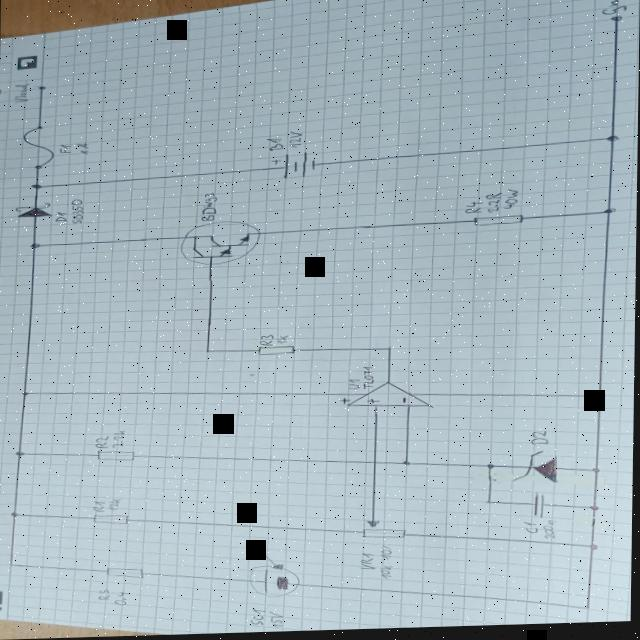capacitor: (529, 496, 547, 523)
crossover: (369, 463, 379, 468)
diode: (508, 453, 559, 489), (12, 203, 55, 220)
junction: (603, 139, 619, 147), (591, 397, 606, 405), (601, 212, 615, 219), (28, 243, 41, 250), (588, 509, 600, 516), (13, 451, 25, 458), (587, 548, 599, 555), (30, 184, 42, 190), (589, 472, 601, 478), (581, 610, 593, 616), (485, 467, 496, 473), (484, 503, 494, 509), (9, 513, 19, 518), (202, 351, 212, 356), (19, 392, 29, 397), (401, 464, 411, 469), (383, 349, 393, 354), (7, 563, 15, 568)
resistor: (359, 521, 407, 543), (472, 217, 522, 230), (104, 567, 144, 582), (95, 450, 135, 464), (91, 514, 129, 528), (256, 347, 295, 358)
source: (269, 152, 316, 183)
terminal: (608, 19, 623, 27), (34, 86, 46, 92)
text: (598, 0, 627, 20), (198, 194, 217, 224), (67, 199, 85, 226), (482, 194, 503, 217), (499, 192, 518, 214), (283, 132, 303, 152), (11, 83, 29, 104), (249, 611, 269, 629), (266, 613, 286, 631), (360, 369, 375, 393), (529, 434, 550, 451), (358, 554, 375, 575), (541, 522, 557, 544), (264, 138, 285, 154), (108, 431, 126, 449), (378, 547, 395, 564), (463, 204, 483, 218), (111, 592, 129, 607), (522, 524, 540, 539), (378, 567, 394, 583), (75, 143, 92, 157), (93, 437, 110, 450), (104, 500, 121, 513), (91, 501, 108, 514), (346, 380, 362, 393), (97, 591, 115, 602), (258, 337, 274, 349), (56, 145, 73, 156), (274, 337, 289, 348), (54, 213, 66, 224)
transistor: (177, 221, 262, 268)
